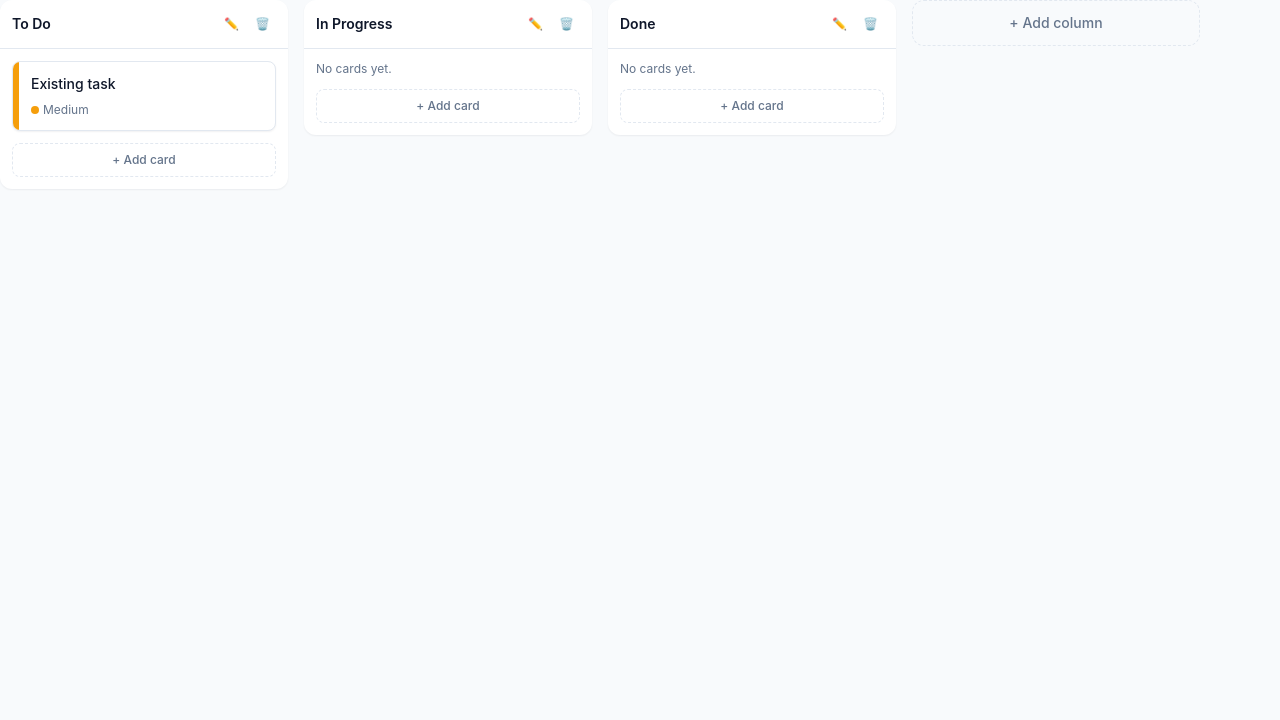
Test case: BoardView — cards › blocks card creation when the title is empty
Expected: the heading "To Do" is shown, [12,15,51,32]
Click the button "+ Add card" below "Medium" at coordinates (144, 160), box [12,143,276,177]
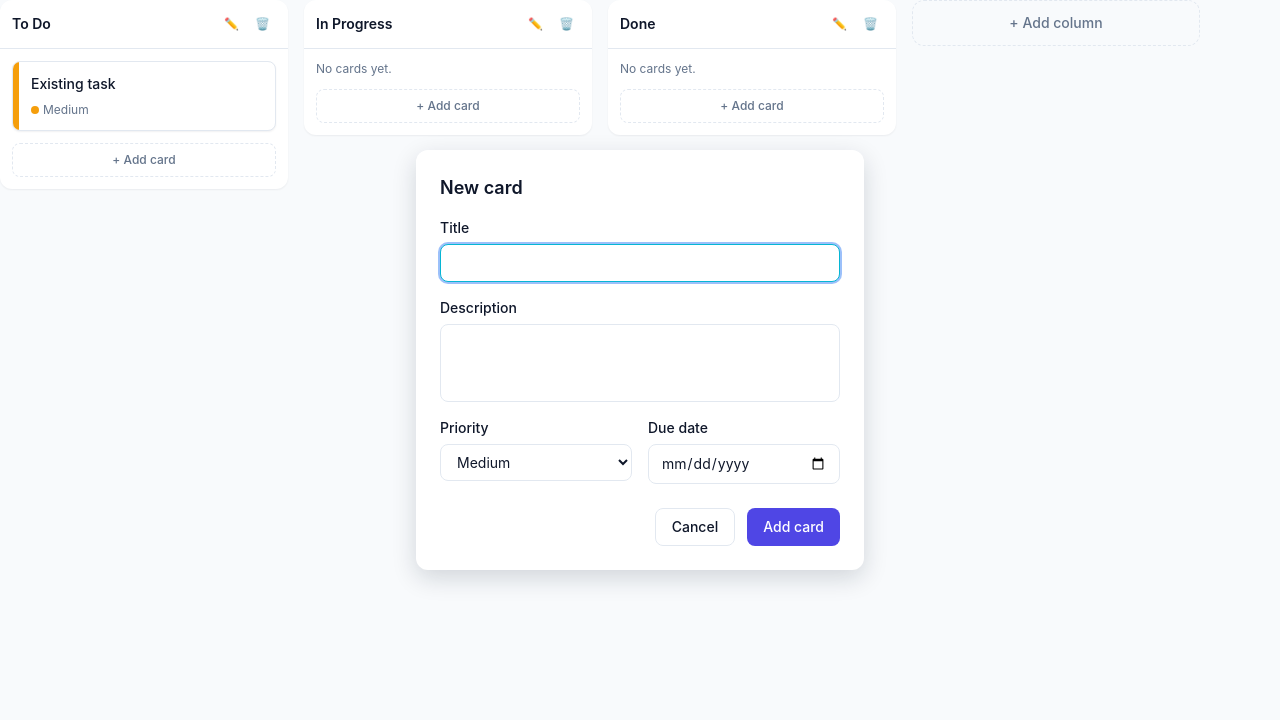
Click the button "Add card" at coordinates (794, 527), box [747,508,840,546]
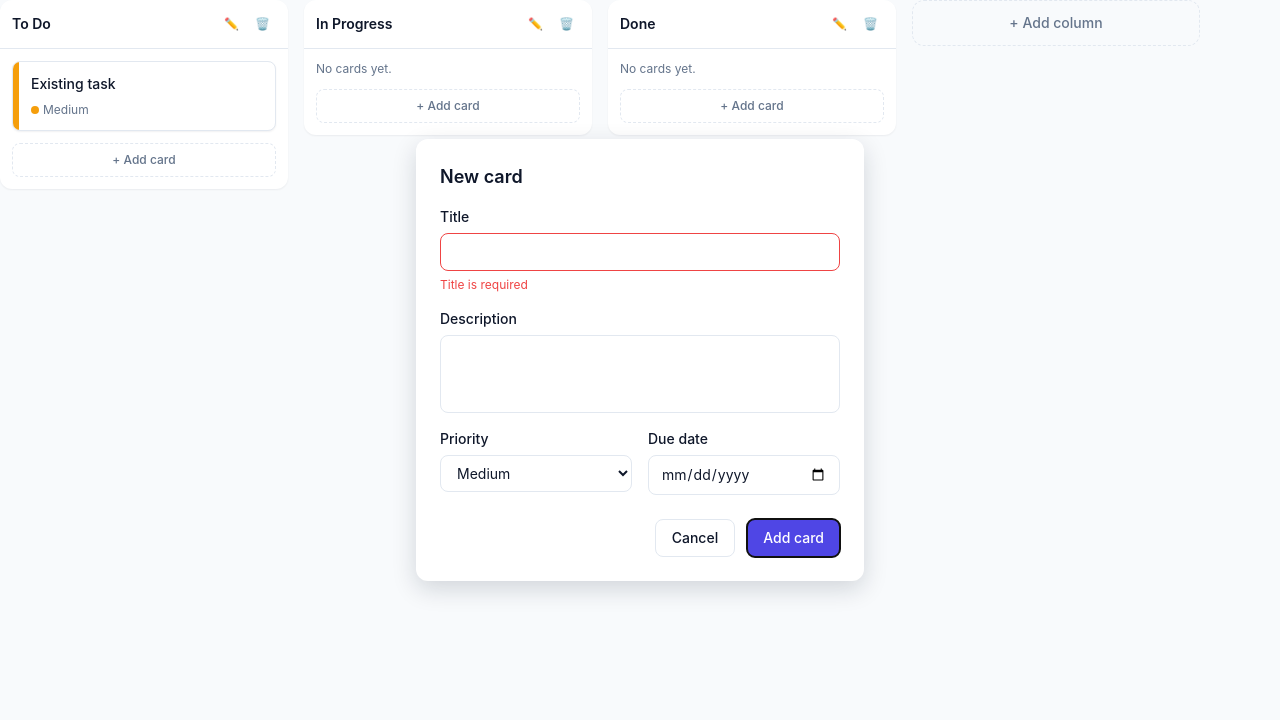
Result: the text "Title is required" is shown at [440,277,528,292]
